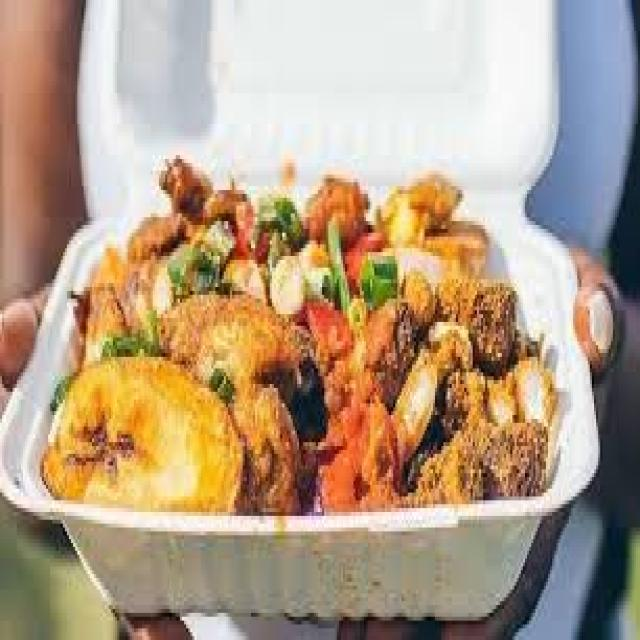Organik: (23, 162, 564, 534), (274, 162, 561, 536), (42, 338, 255, 534)
